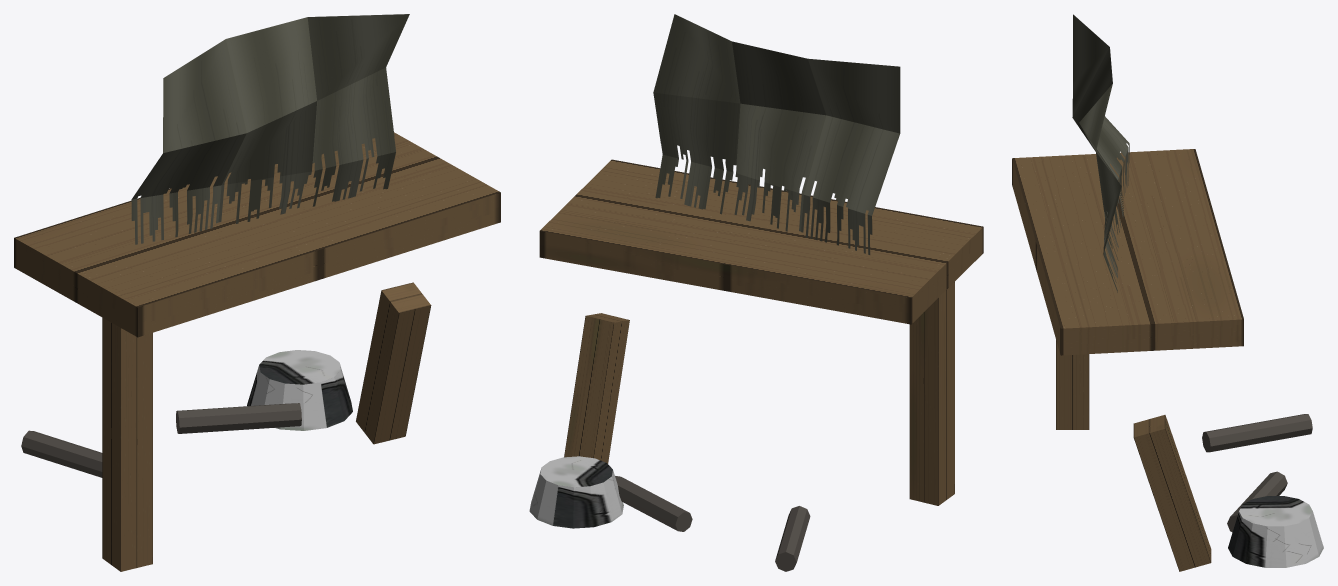
File: nha-hoang-ban-tho-do.glb
The picture shows the model from 3 angles, left to right: view 1: azimuth 30°, elevation 25°; view 2: azimuth 150°, elevation 25°; view 3: azimuth 270°, elevation 25°; orthographic projection. The views are drawn at different scales.
Visible parts, largest first — view 1: nha-hoang-ban-tho-do; view 2: nha-hoang-ban-tho-do; view 3: nha-hoang-ban-tho-do.
Part boxes in pixels (x1,y1,x2,y2): nha-hoang-ban-tho-do: (14, 14, 500, 571); nha-hoang-ban-tho-do: (529, 14, 983, 571); nha-hoang-ban-tho-do: (1012, 14, 1323, 571).
Bounding box in the file's own units: 1.15 × 1.28 × 0.844.
Materials: 4 (3 with a texture image).
